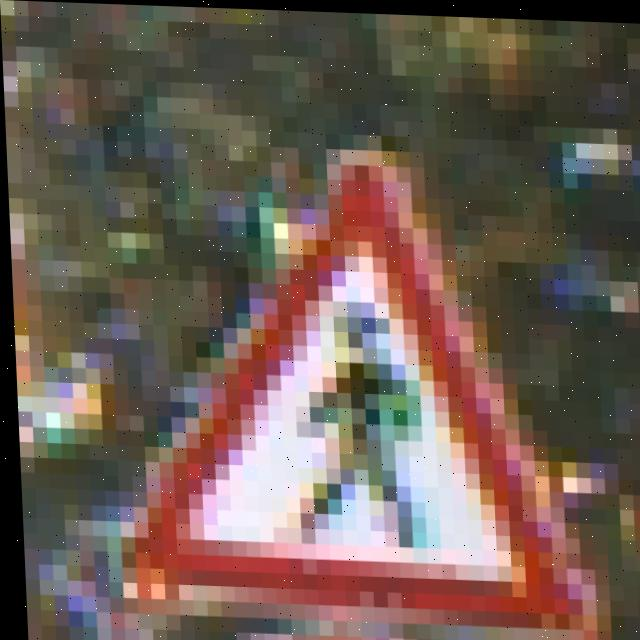crosswalk: (143, 143, 582, 621)
